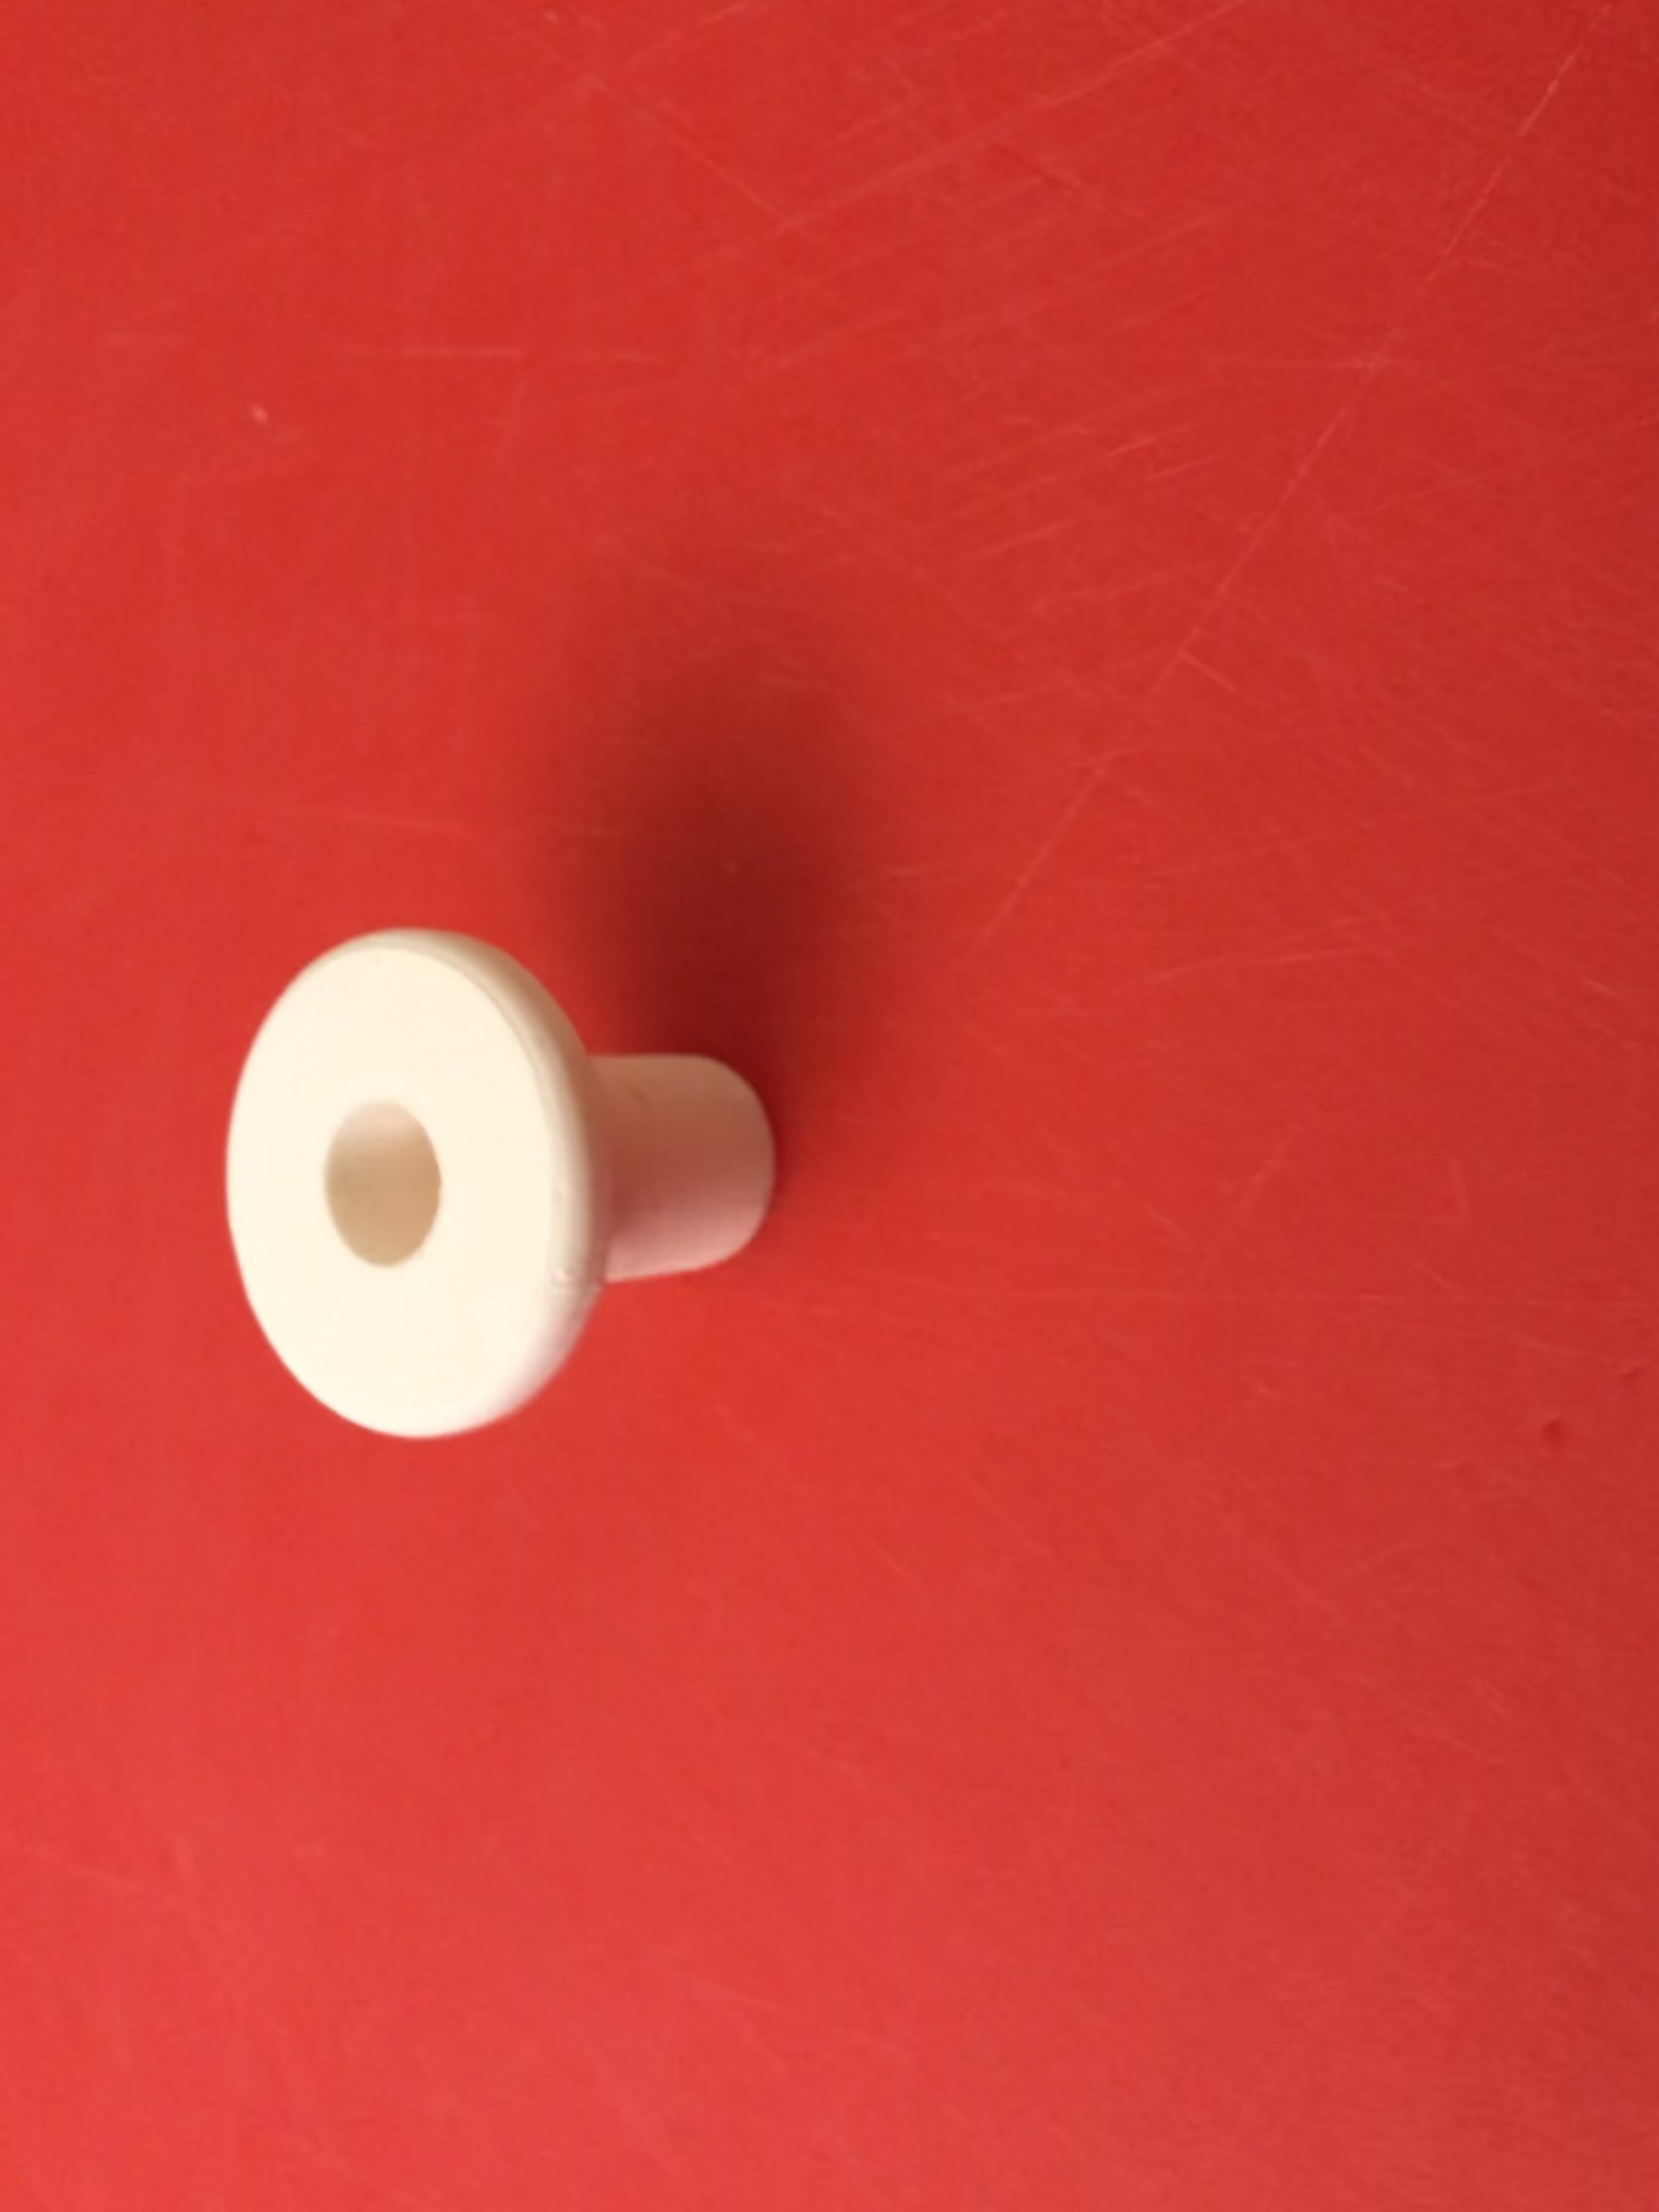White Cone: (192, 921, 810, 1461)
